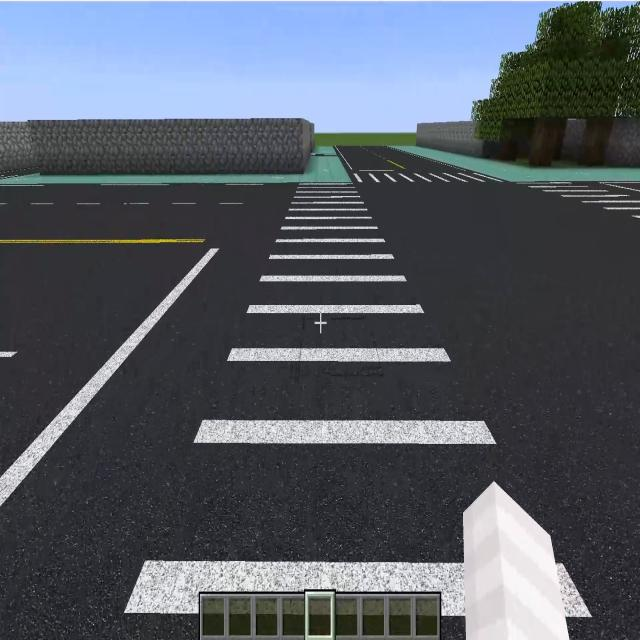crosswalk: (121, 183, 546, 616), (512, 182, 640, 227), (347, 169, 508, 183)
road: (0, 185, 293, 639), (361, 183, 640, 639), (337, 146, 449, 171)
sidewalk: (0, 156, 350, 185), (391, 145, 640, 182), (78, 155, 351, 184), (5, 176, 62, 183), (311, 146, 337, 156)
